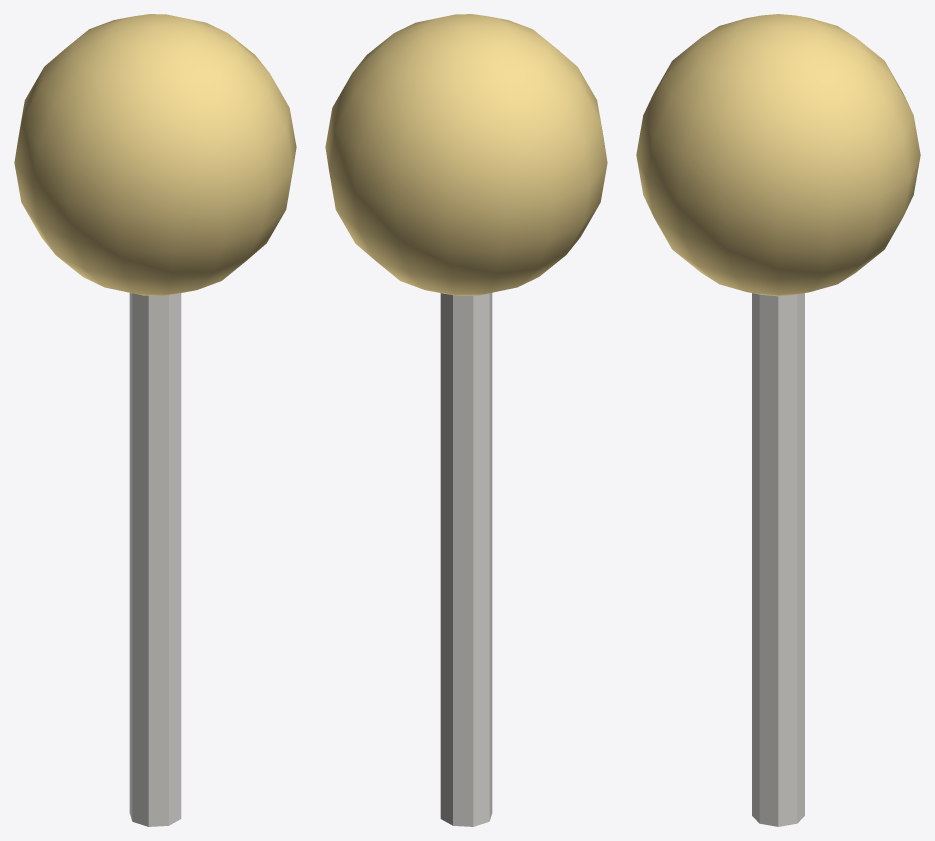
File: site_pin.glb
The picture shows the model from 3 angles, left to right: view 1: azimuth 30°, elevation 25°; view 2: azimuth 150°, elevation 25°; view 3: azimuth 270°, elevation 25°; orthographic projection.
Parts seen in each view (by area): view 1: SitePin; view 2: SitePin; view 3: SitePin.
Part boxes in pixels (left/top/right/bottom): SitePin: left=14, top=14, right=296, bottom=826; SitePin: left=325, top=14, right=607, bottom=826; SitePin: left=636, top=14, right=920, bottom=826.
Bounding box in the file's own units: 0.32 × 0.98 × 0.32.
